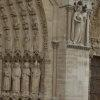Statue: (64, 2, 95, 59)
